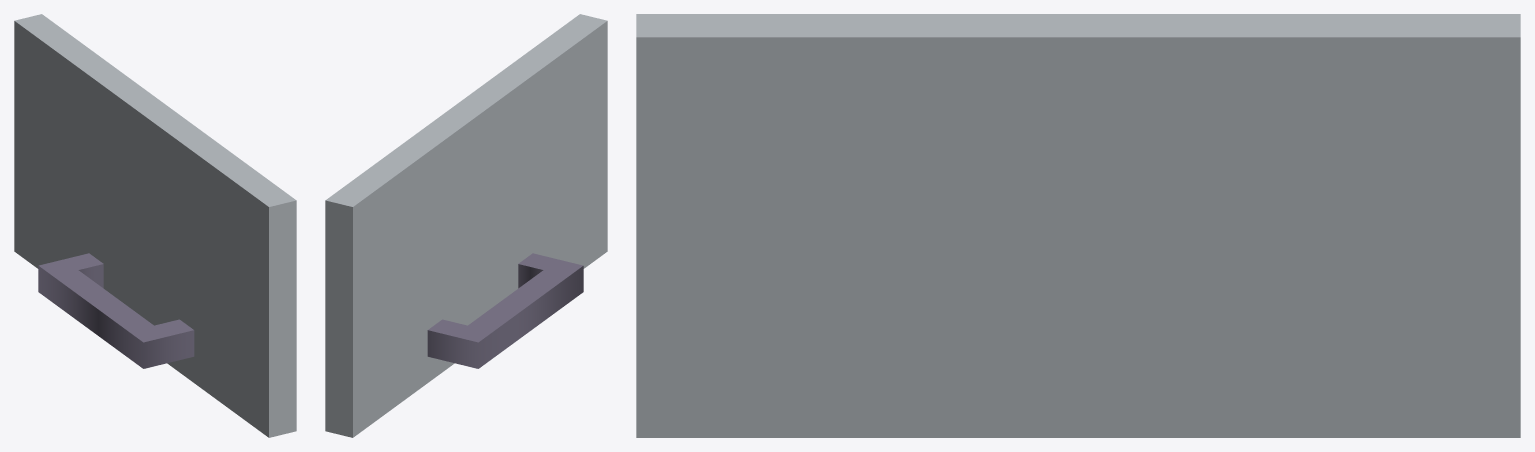
The model's file is (%no-merge) (%open-up) (%low) 1.glb.
3 views of the same model, side by side, from view 1: azimuth 30°, elevation 25°; view 2: azimuth 150°, elevation 25°; view 3: azimuth 270°, elevation 25° (orthographic). The views are drawn at different scales.
Parts seen in each view (by area): view 1: (%no-merge) (%open-up) (%low) 1(Clone); view 2: (%no-merge) (%open-up) (%low) 1(Clone); view 3: (%no-merge) (%open-up) (%low) 1(Clone).
Boxes of the visible parts, bbox=[...] form: (%no-merge) (%open-up) (%low) 1(Clone): bbox=[14, 14, 296, 437]; (%no-merge) (%open-up) (%low) 1(Clone): bbox=[325, 14, 607, 437]; (%no-merge) (%open-up) (%low) 1(Clone): bbox=[636, 14, 1520, 437].
Bounding box in the file's own units: 0.071 × 0.2 × 0.4.
